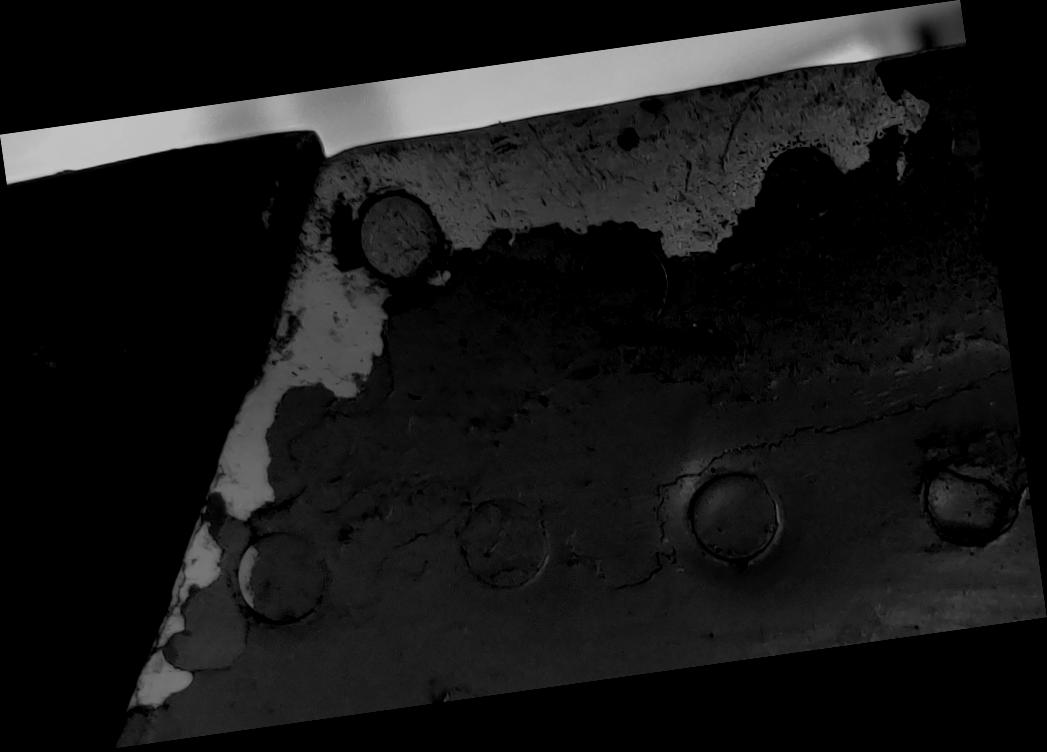paint-off: (1, 0, 1047, 751)
